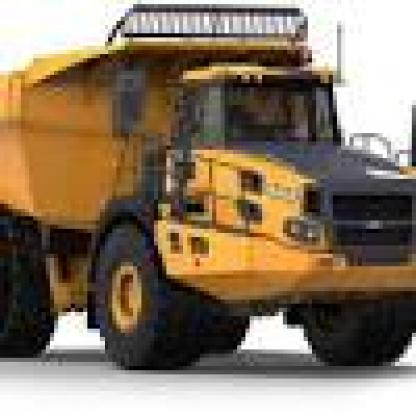dump_truck: (0, 16, 412, 378)
